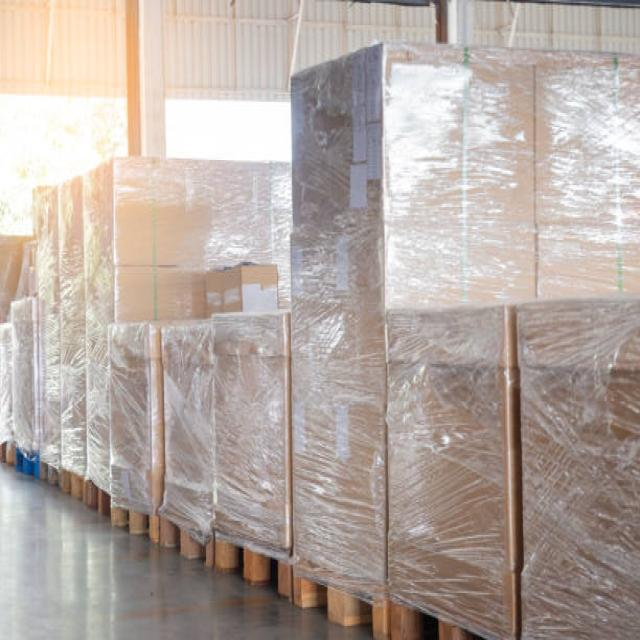Wooden-Pallets: (288, 558, 393, 640), (210, 526, 293, 606), (148, 501, 216, 575)
